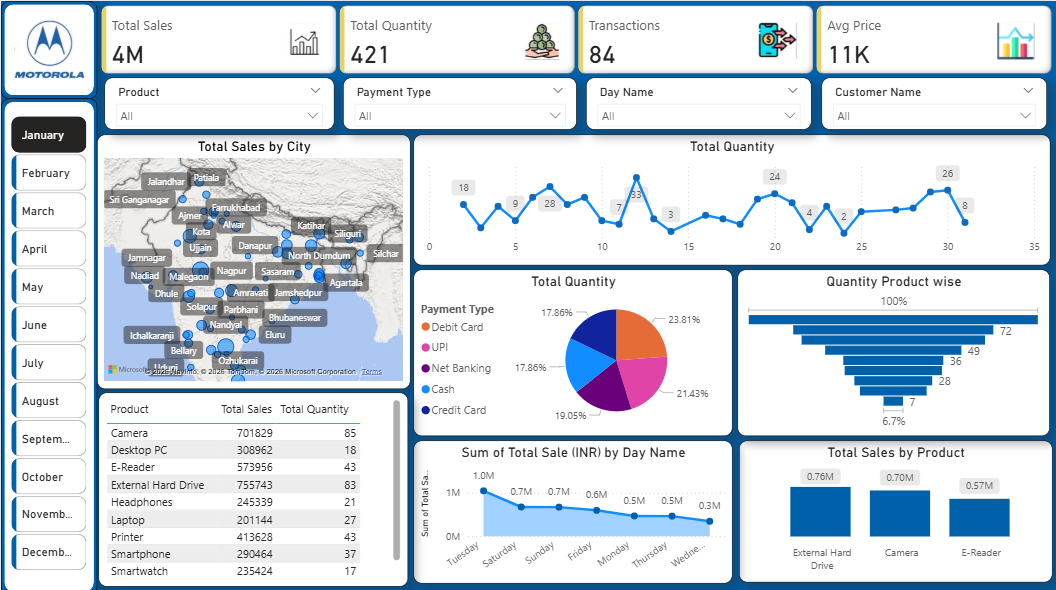

The page's visual inventory and layout, read from the dashboard file:
{"tool":"powerbi","page":{"name":"Page 1","canvas":[1280,720],"ordinal":0},"visuals":[{"type":"shape","box":[0,0,116.7,118.3],"z":0},{"type":"image","box":[10,11.7,95,95],"z":1000},{"type":"shape","box":[0,118.3,116.7,601.7],"z":1001},{"type":"advancedSlicerVisual","fields":{"Values":["Sales_Data.Sales Date.Variation.Date Hierarchy.Month"]},"box":[6.7,135,101.7,570],"z":1002},{"type":"cardVisual","fields":{"Data":["Sales_Data.Total Sales","Sales_Data.Total Quantity","Sales_Data.Transactions","Sales_Data.Avg Price"]},"box":[116.7,0,1163.3,93.3],"z":1003},{"type":"map","fields":{"Category":["Sales_Data.City"],"Size":["Sales_Data.Total Sales"]},"box":[116.7,161.7,380,308.3],"z":1004},{"type":"lineChart","title":"Total Quantity","fields":{"Category":["Sales_Data.Sales Date.Variation.Date Hierarchy.Month","Sales_Data.Sales Date.Variation.Date Hierarchy.Day"],"Y":["Sales_Data.Total Quantity"]},"box":[500,161.7,771.7,158.3],"z":1005},{"type":"clusteredColumnChart","title":"Total Sales by Product","fields":{"Y":["Sum(Sales_Data.Total Sale (INR))"],"Category":["Sales_Data.Product"]},"box":[895,533.3,380,171.7],"z":1006},{"type":"pieChart","title":"Total Quantity","fields":{"Category":["Sales_Data.Payment Type"],"Y":["Sales_Data.Transactions"]},"box":[500,325,386.7,201.7],"z":1007},{"type":"funnel","title":"Quantity Product wise","fields":{"Category":["Sales_Data.Quantity"],"Y":["Sum(Sales_Data.Quantity)"]},"box":[893.3,325,378.3,201.7],"z":1008},{"type":"areaChart","fields":{"Category":["Sales_Data.Day Name"],"Y":["Sum(Sales_Data.Total Sale (INR))"]},"box":[500,533.3,386.7,173.3],"z":1009},{"type":"tableEx","title":"Total Quantity","fields":{"Values":["Sales_Data.Product","Sales_Data.Total Sales","Sales_Data.Total Quantity"]},"box":[118.3,475,375,235],"z":1010},{"type":"slicer","fields":{"Values":["Sales_Data.Product"]},"box":[125,93.3,278.3,63.3],"z":1011},{"type":"slicer","fields":{"Values":["Sales_Data.Payment Type"]},"box":[415,93.3,283.3,63.3],"z":1012},{"type":"slicer","fields":{"Values":["Sales_Data.Day Name"]},"box":[708.3,93.3,273.3,63.3],"z":1013},{"type":"slicer","fields":{"Values":["Sales_Data.Customer Name"]},"box":[995,93.3,273.3,63.3],"z":1014}]}

Visuals, with their boxes in screenshot pixels (x1, y1, x2, y2), scaled from the page's 1280x720 canvas onto the 1056x590 screenshot:
shape: [0,0,96,97]
image: [8,10,87,87]
shape: [0,97,96,589]
advancedSlicerVisual - Sales_Data.Sales Date.Variation.Date Hierarchy.Month: [6,111,89,578]
cardVisual - Sales_Data.Total Sales x Sales_Data.Total Quantity: [96,0,1055,76]
map - Sales_Data.City x Sales_Data.Total Sales: [96,133,410,385]
"Total Quantity" lineChart: [412,133,1049,262]
"Total Sales by Product" clusteredColumnChart: [738,437,1052,578]
"Total Quantity" pieChart: [412,266,732,432]
"Quantity Product wise" funnel: [737,266,1049,432]
areaChart - Sales_Data.Day Name x Sum(Sales_Data.Total Sale (INR)): [412,437,732,579]
"Total Quantity" tableEx: [98,389,407,582]
slicer - Sales_Data.Product: [103,76,333,128]
slicer - Sales_Data.Payment Type: [342,76,576,128]
slicer - Sales_Data.Day Name: [584,76,810,128]
slicer - Sales_Data.Customer Name: [821,76,1046,128]
